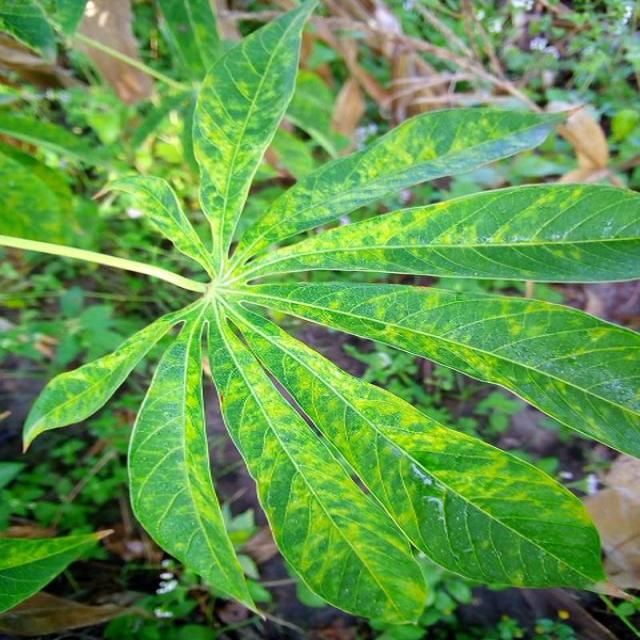cassava leaf: (10, 1, 638, 633)
